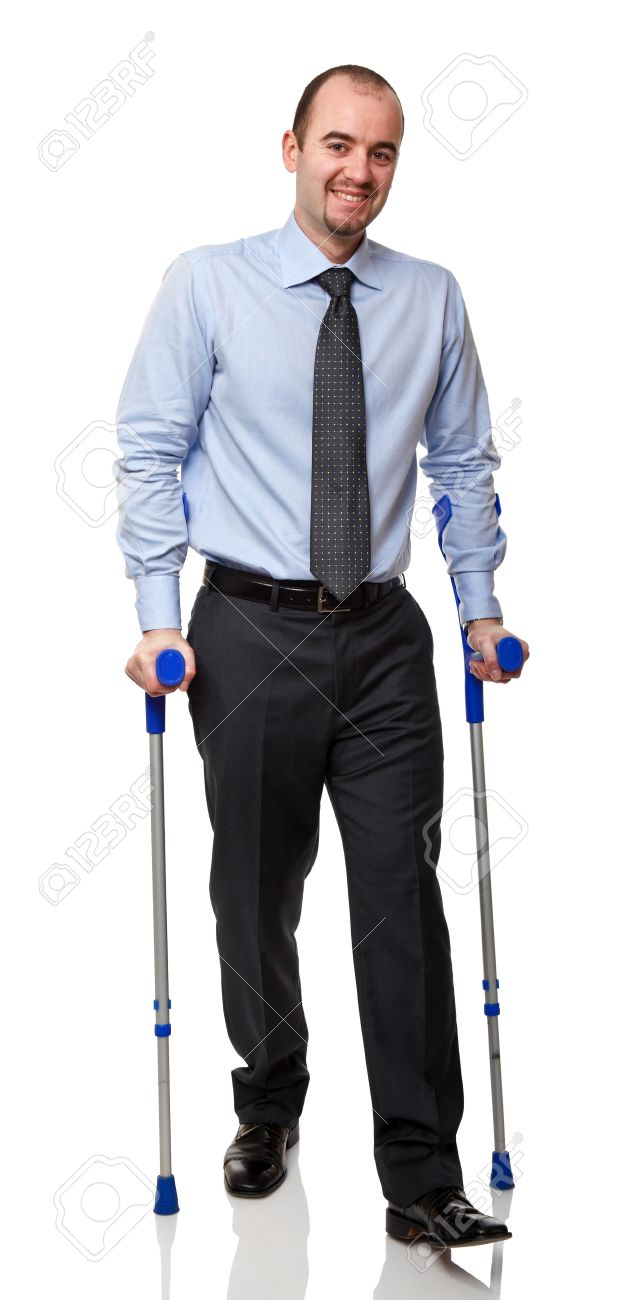crutches: (112, 64, 525, 1251)
